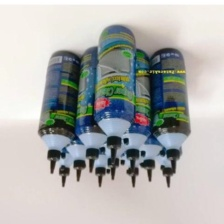cleaning_solution: (90, 23, 140, 167), (35, 47, 82, 177), (146, 44, 192, 176), (113, 43, 156, 175), (74, 42, 109, 175), (131, 70, 167, 185), (61, 72, 95, 183), (149, 100, 185, 189), (98, 92, 130, 183), (82, 101, 112, 189), (47, 104, 78, 188), (120, 112, 147, 188)
